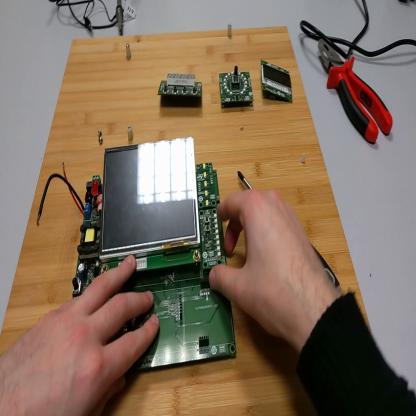hand: (2, 252, 158, 415), (210, 184, 326, 347)
low voltage board: (38, 137, 238, 370)
oscilloscope probe tip: (117, 2, 125, 36)
pliers: (320, 37, 395, 147)
screwdriver-: (240, 170, 346, 299)
working area: (3, 22, 374, 414)
